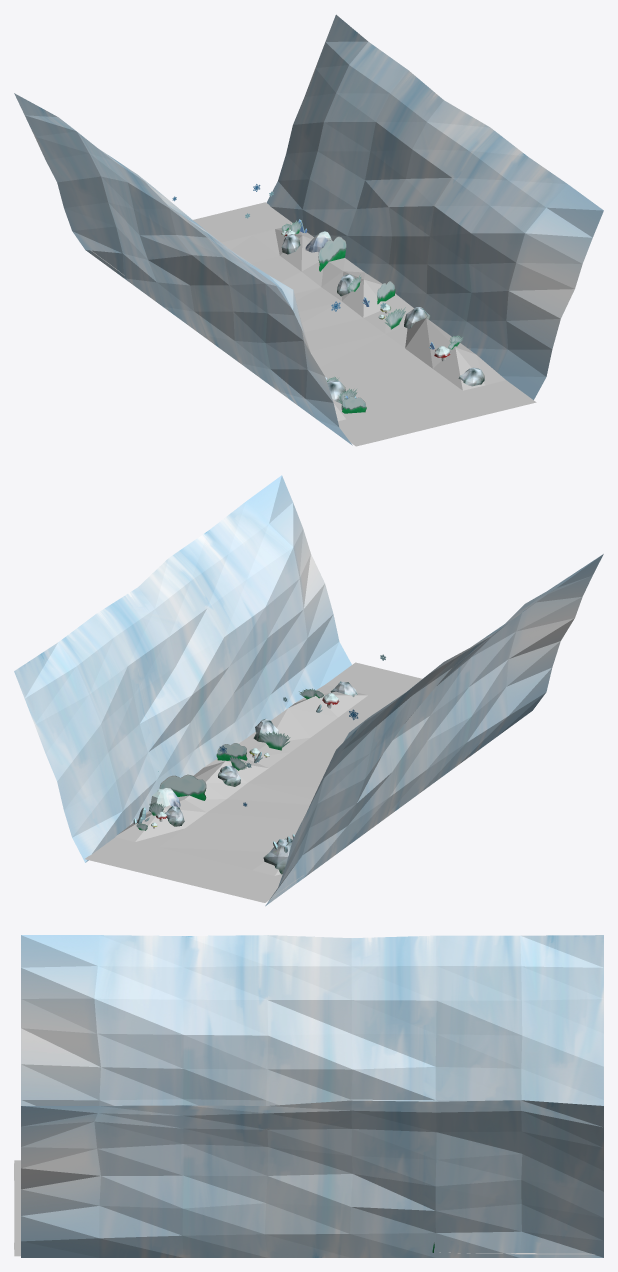
Rendered from IceStage.fbx.
The picture shows the model from 3 angles, top to bottom: view 1: azimuth 30°, elevation 25°; view 2: azimuth 150°, elevation 25°; view 3: azimuth 270°, elevation 25°; orthographic projection. The views are drawn at different scales.
Visible parts, largest first — view 1: polySurface1005; view 2: polySurface1005; view 3: polySurface1005.
Boxes of the visible parts, bbox=[...] form: polySurface1005: bbox=[14, 14, 603, 446]; polySurface1005: bbox=[14, 475, 603, 906]; polySurface1005: bbox=[14, 935, 603, 1257].
Size of the model in its own units: 18.19 by 9.81 by 26.54.
